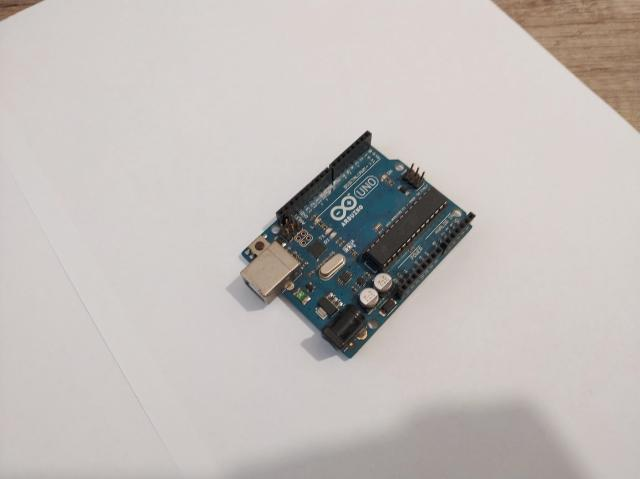arduino: (239, 131, 475, 359)
